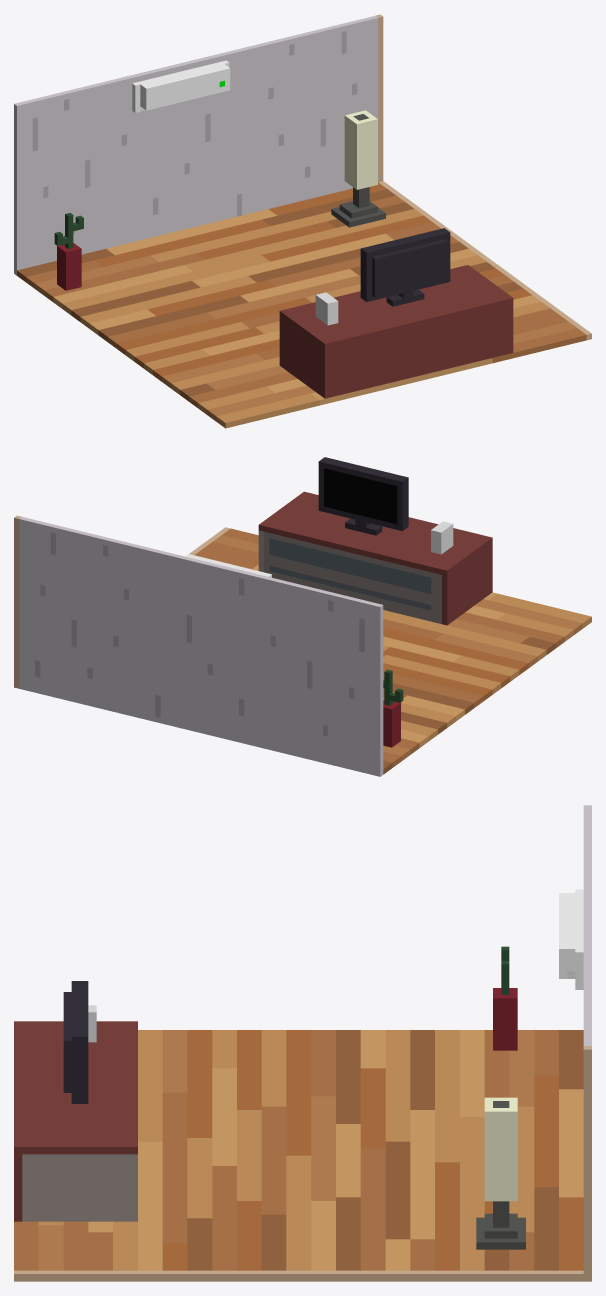
File: full_dining_room.obj
The picture shows the model from 3 angles, top to bottom: view 1: azimuth 30°, elevation 25°; view 2: azimuth 150°, elevation 25°; view 3: azimuth 270°, elevation 25°; orthographic projection. The views are drawn at different scales.
Bounding box in the file's own units: 7 × 3.1 × 7.
Materials: 1 (1 with a texture image).
